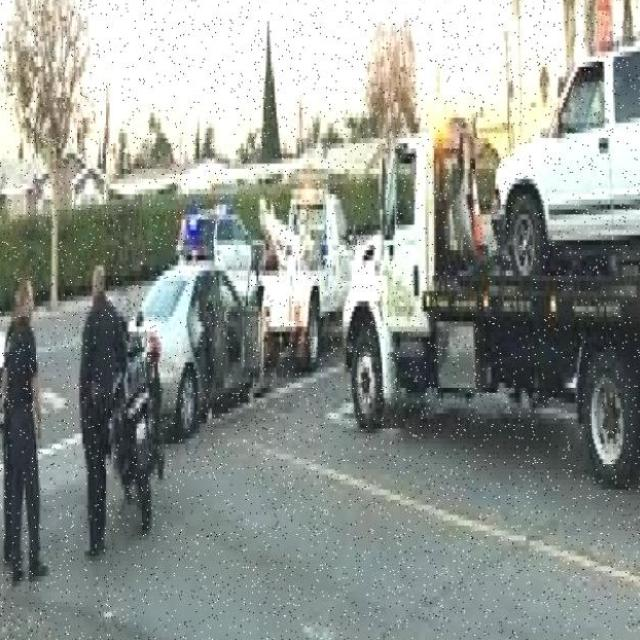accident: (151, 240, 279, 436)
